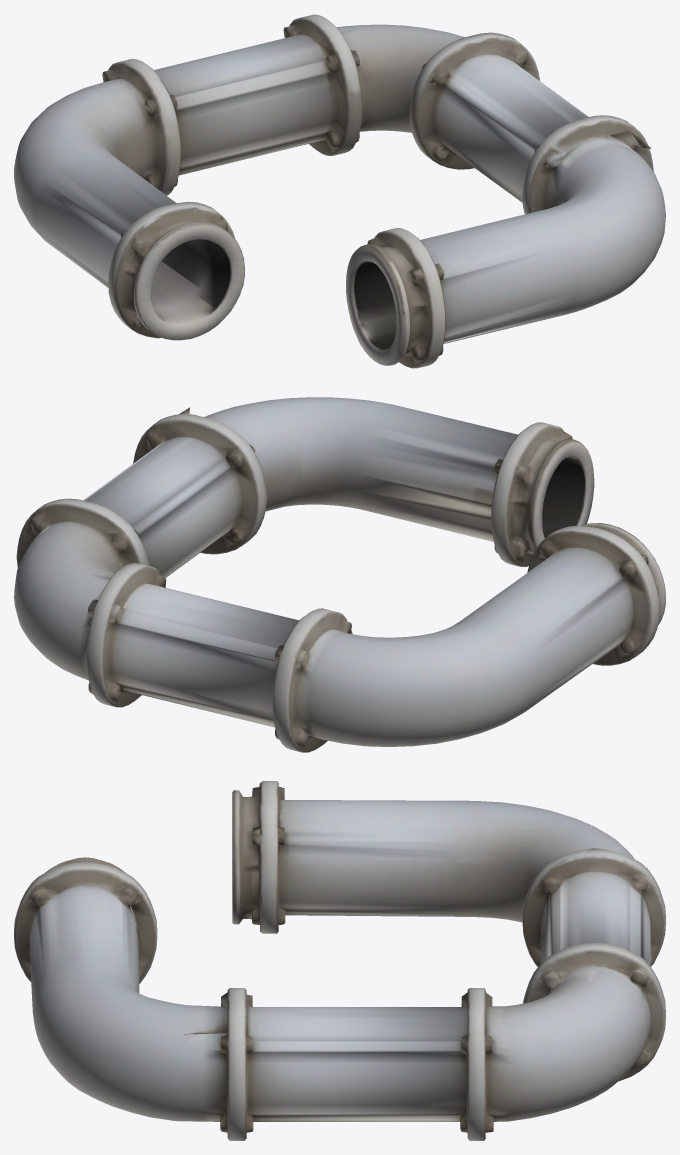
The model's file is l-shaped_industrial_pipe_f7fd8524_v2.glb.
3 renders of one model, top to bottom at view 1: azimuth 30°, elevation 25°; view 2: azimuth 150°, elevation 25°; view 3: azimuth 270°, elevation 25°, orthographic. The views are drawn at different scales.
Parts seen in each view (by area): view 1: material; view 2: material; view 3: material.
Part boxes in pixels (x1=…): material: x1=14, y1=14, x2=665, y2=368; material: x1=14, y1=397, x2=665, y2=752; material: x1=14, y1=781, x2=665, y2=1140.
Bounding box in the file's own units: 1.87 × 0.4355 × 1.9.
1 material, 1 textured.
